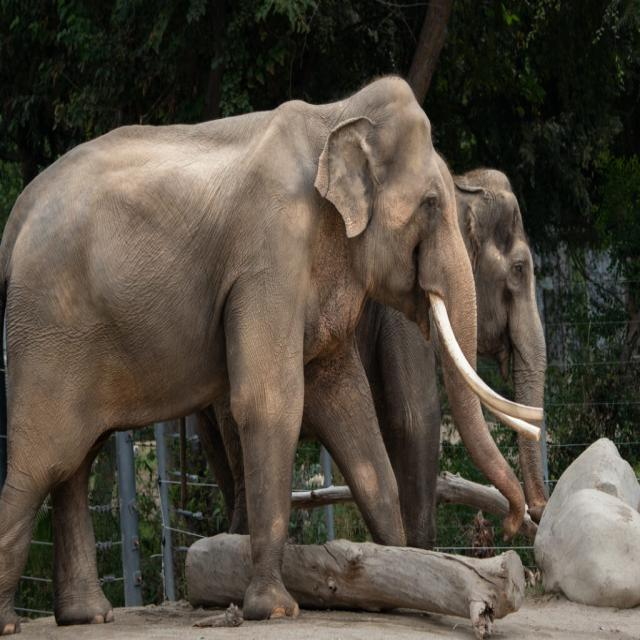Elephant: (0, 67, 518, 628), (445, 160, 571, 549)
